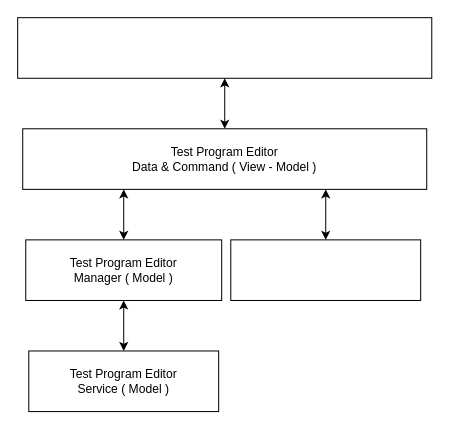
The diagram is 449 pixels wide and 429 high, and some of its shapes have lost their labels. The box of each missing label's shape, as (x1, y1, x2, y2) in pixels:
Test Program Editor Data ( Model ): (230, 239, 421, 300)
Test Program Editor GUI ( View ): (17, 17, 432, 78)
